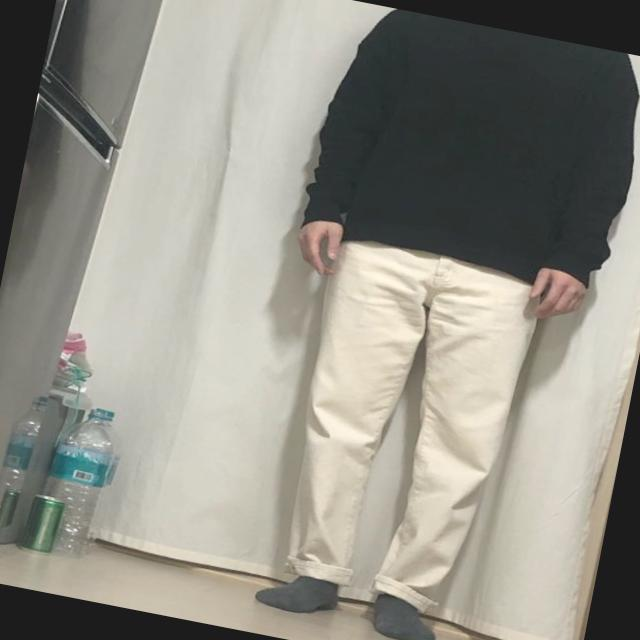cottonpants: (271, 232, 547, 622)
mtm: (293, 0, 640, 300)
